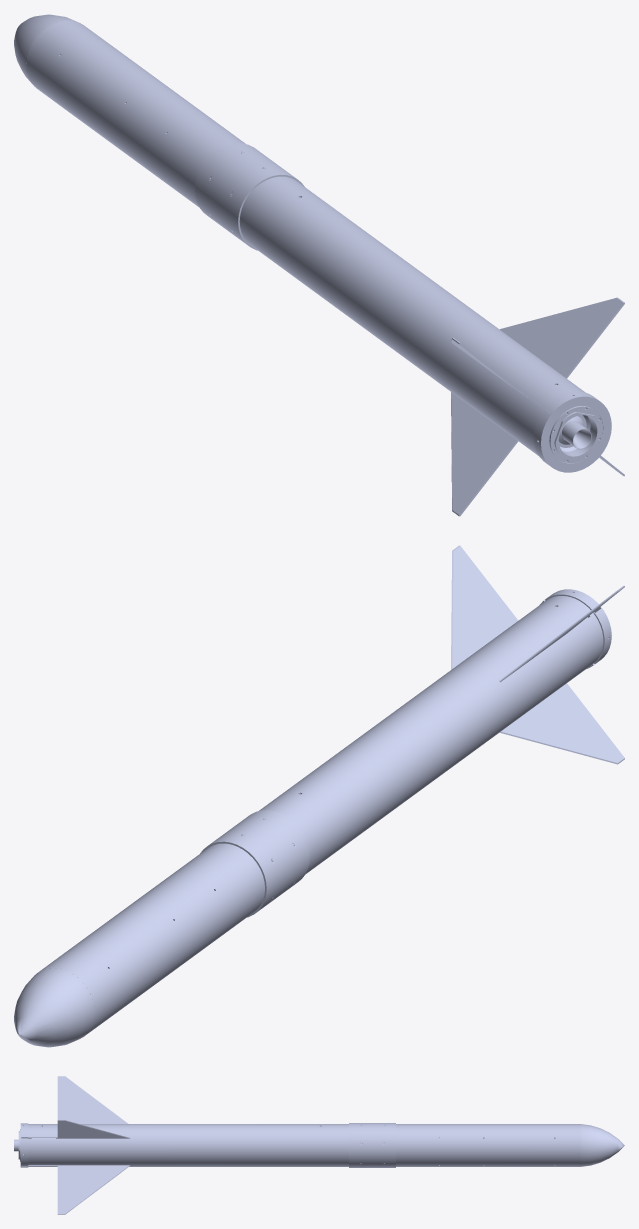
File: Rocket_Web.glb
The picture shows the model from 3 angles, top to bottom: view 1: azimuth 30°, elevation 25°; view 2: azimuth 150°, elevation 25°; view 3: azimuth 270°, elevation 25°; orthographic projection. The views are drawn at different scales.
Visible parts, largest first — view 1: Rocket_MotorTube, Rocket_PayloadTube, Rocket_ConnectingRing, NAUO83, NAUO81, NAUO6, NAUO58, Rocket_NoseCone; view 2: Rocket_MotorTube, Rocket_PayloadTube, Rocket_NoseCone, Rocket_ConnectingRing, NAUO83, NAUO81, NAUO6; view 3: Rocket_MotorTube, Rocket_PayloadTube, Rocket_ConnectingRing, NAUO82, NAUO84, Rocket_NoseCone, NAUO81, NAUO6.
Part boxes in pixels (x1=…): Rocket_MotorTube: x1=239, y1=176, x2=585, y2=455; Rocket_PayloadTube: x1=26, y1=20, x2=245, y2=207; Rocket_ConnectingRing: x1=195, y1=143, x2=304, y2=250; NAUO83: x1=451, y1=392, x2=518, y2=516; NAUO81: x1=500, y1=297, x2=624, y2=378; NAUO6: x1=534, y1=391, x2=611, y2=472; NAUO58: x1=549, y1=406, x2=603, y2=463; Rocket_NoseCone: x1=14, y1=14, x2=80, y2=84; Rocket_MotorTube: x1=259, y1=596, x2=603, y2=874; Rocket_PayloadTube: x1=34, y1=843, x2=264, y2=1035; Rocket_NoseCone: x1=14, y1=968, x2=94, y2=1047; Rocket_ConnectingRing: x1=200, y1=810, x2=309, y2=917; NAUO83: x1=500, y1=683, x2=624, y2=764; NAUO81: x1=451, y1=545, x2=518, y2=669; NAUO6: x1=540, y1=589, x2=611, y2=668; Rocket_MotorTube: x1=21, y1=1124, x2=348, y2=1166; Rocket_PayloadTube: x1=396, y1=1124, x2=580, y2=1166; Rocket_ConnectingRing: x1=349, y1=1123, x2=395, y2=1167; NAUO82: x1=57, y1=1165, x2=129, y2=1214; NAUO84: x1=57, y1=1076, x2=128, y2=1123; Rocket_NoseCone: x1=580, y1=1124, x2=624, y2=1166; NAUO81: x1=57, y1=1120, x2=130, y2=1138; NAUO6: x1=20, y1=1123, x2=28, y2=1167.
Bounding box in the file's own units: 0.3995 × 0.3995 × 2.35.
